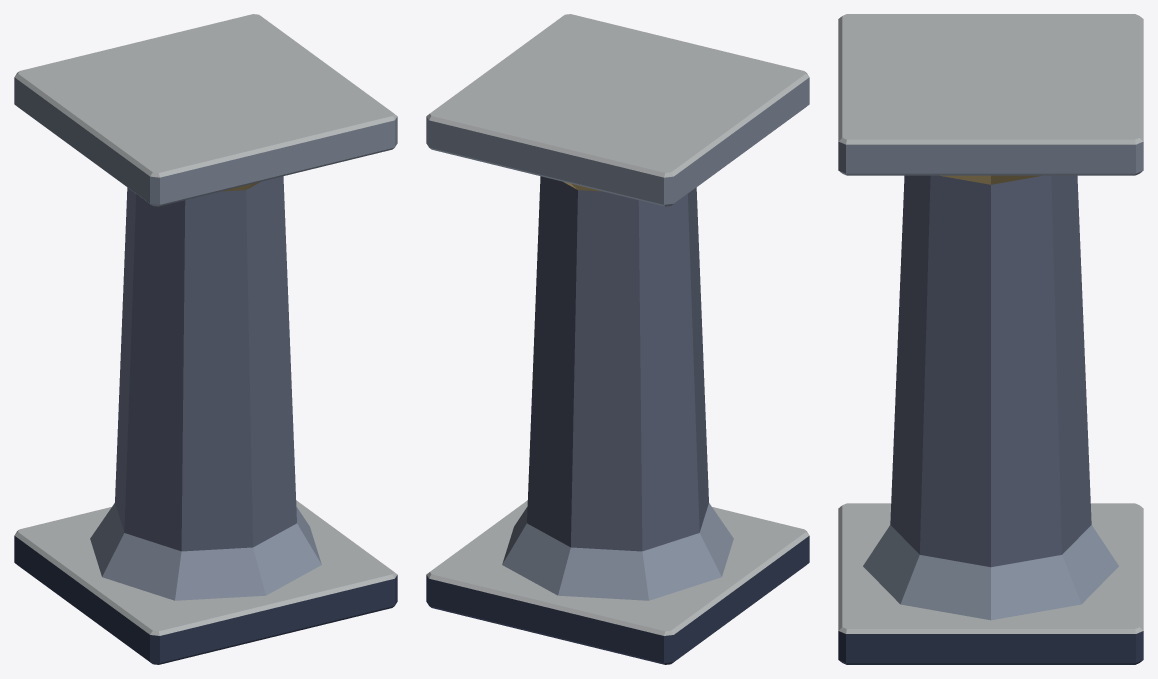
The model's file is pillar-large.glb.
3 renders of one model, left to right at view 1: azimuth 30°, elevation 25°; view 2: azimuth 150°, elevation 25°; view 3: azimuth 270°, elevation 25°, orthographic. The views are drawn at different scales.
Parts seen in each view (by area): view 1: pillar-large__body; view 2: pillar-large__body; view 3: pillar-large__body.
Part boxes in pixels (x1,y1,x2,y2): pillar-large__body: [14, 14, 397, 664]; pillar-large__body: [426, 14, 809, 664]; pillar-large__body: [838, 14, 1143, 664].
Bounding box in the file's own units: 1 × 1.9 × 1.
